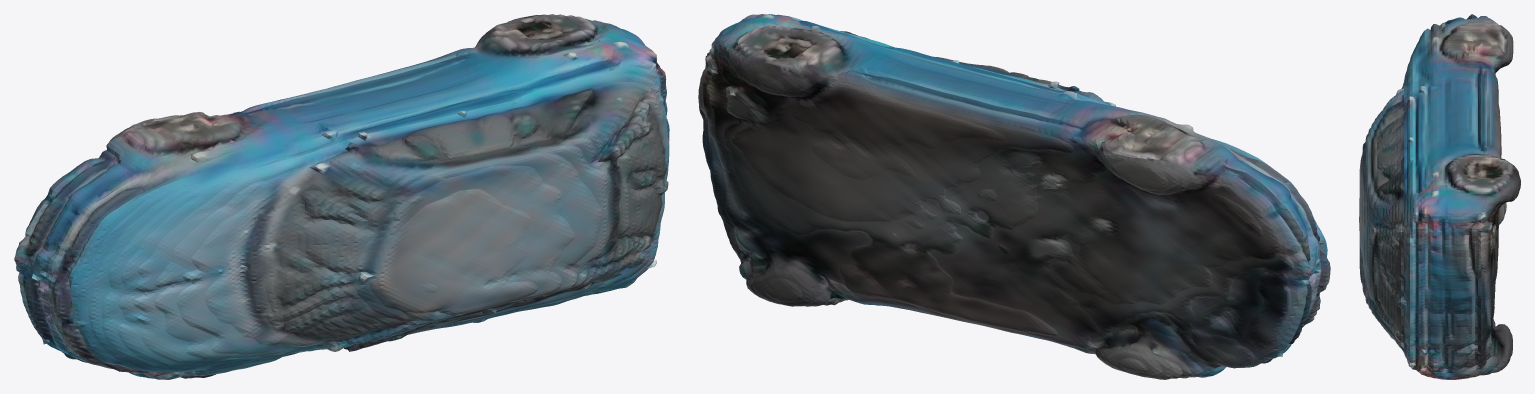
File: calibrated.glb
3 renders of one model, left to right at view 1: azimuth 30°, elevation 25°; view 2: azimuth 150°, elevation 25°; view 3: azimuth 270°, elevation 25°, orthographic. The views are drawn at different scales.
Visible parts, largest first — view 1: world; view 2: world; view 3: world.
Boxes of the visible parts, <box> form: world: <box>14,14,669,379</box>; world: <box>698,14,1330,379</box>; world: <box>1359,14,1520,379</box>.
Bounding box in the file's own units: 4.79 × 1.89 × 1.39.
